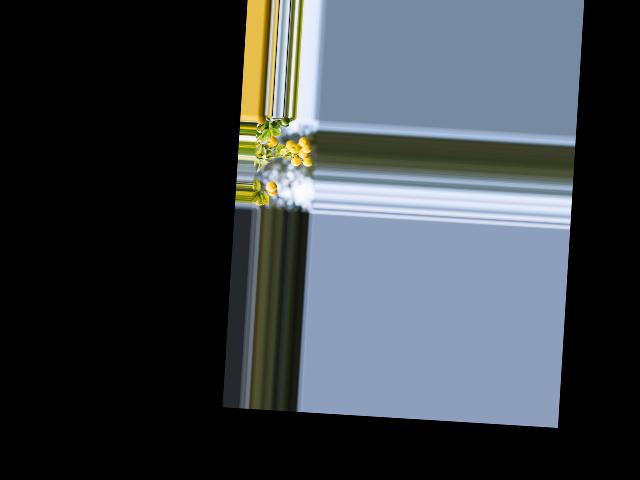lemon: (298, 137, 312, 148)
